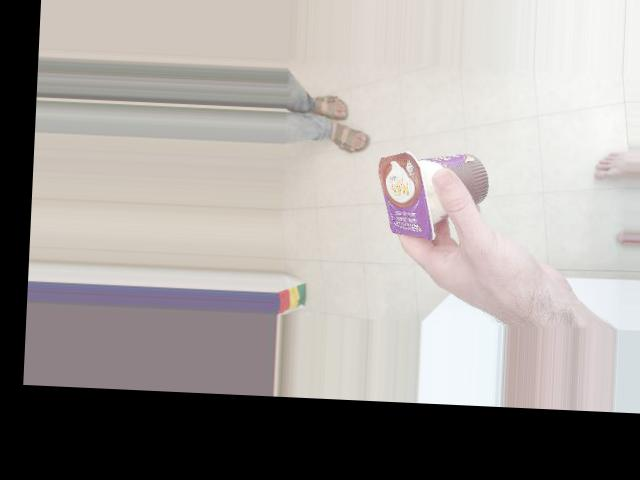milky: (372, 100, 461, 239)
